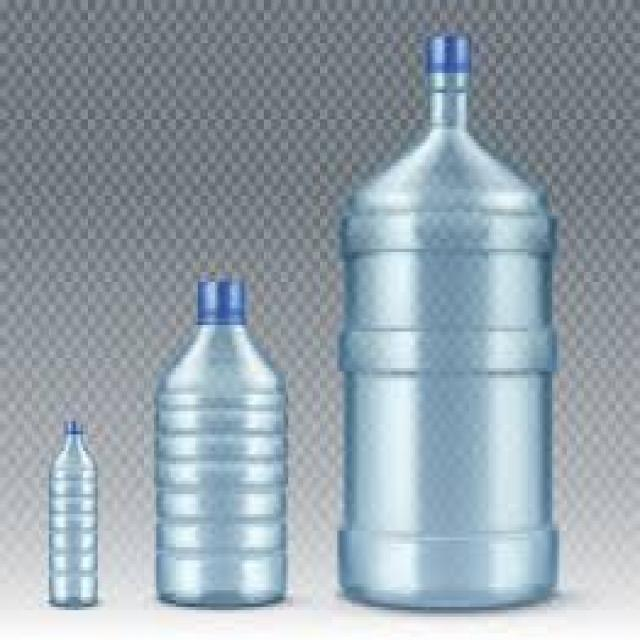Plastic: (340, 33, 560, 608), (154, 280, 290, 606), (48, 420, 98, 608)
